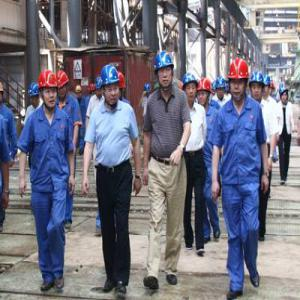blue: (156, 51, 177, 91), (102, 65, 121, 106), (182, 71, 198, 102), (250, 71, 265, 102), (28, 82, 41, 108), (216, 76, 227, 101), (262, 74, 272, 98), (279, 85, 290, 105), (96, 78, 105, 98), (144, 84, 152, 97)
red: (229, 60, 250, 100), (39, 71, 60, 111), (197, 77, 213, 106), (57, 71, 69, 99)
